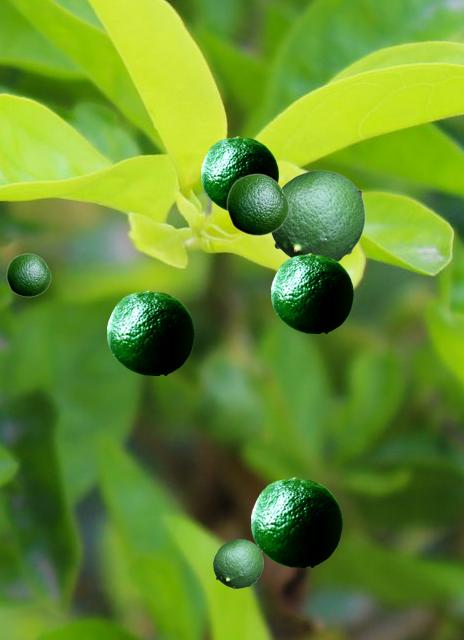calamansi: (271, 170, 364, 261), (251, 477, 341, 566), (107, 290, 193, 374), (271, 253, 352, 332), (201, 136, 277, 210), (226, 173, 288, 235), (213, 539, 262, 587), (6, 253, 50, 296)
